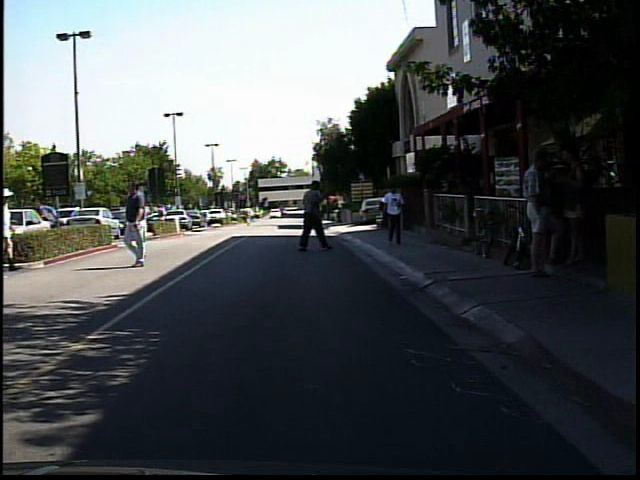person: (520, 140, 564, 281), (554, 142, 593, 273), (118, 179, 158, 272), (296, 174, 337, 254), (375, 179, 409, 249), (2, 182, 23, 275), (155, 200, 172, 233), (241, 204, 257, 229)
